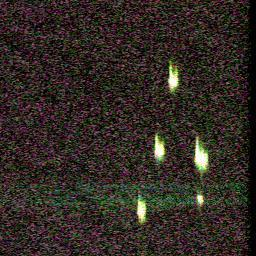Ship: (191, 137, 210, 176), (148, 136, 170, 161), (163, 66, 182, 92), (133, 197, 150, 224), (194, 192, 206, 206)
